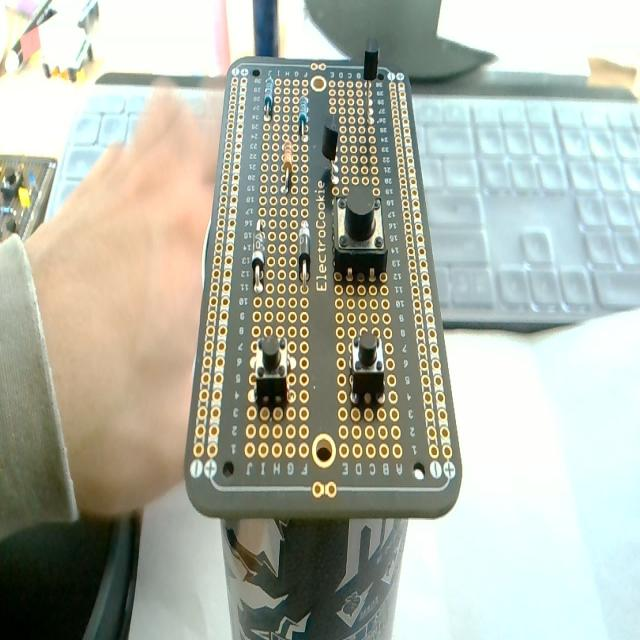diode: (252, 218, 266, 292), (298, 220, 311, 284), (298, 95, 308, 136)
resistor: (282, 141, 293, 192), (264, 76, 274, 116)
switch: (332, 186, 387, 283), (252, 333, 290, 412), (350, 329, 385, 408)
transistor: (362, 37, 379, 127), (321, 120, 340, 190)
